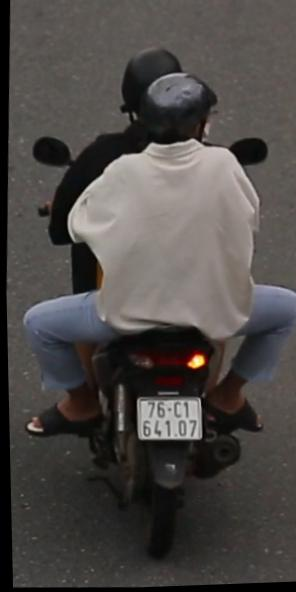LP: (125, 387, 210, 460)
helmet: (138, 67, 224, 155), (116, 36, 181, 101)
